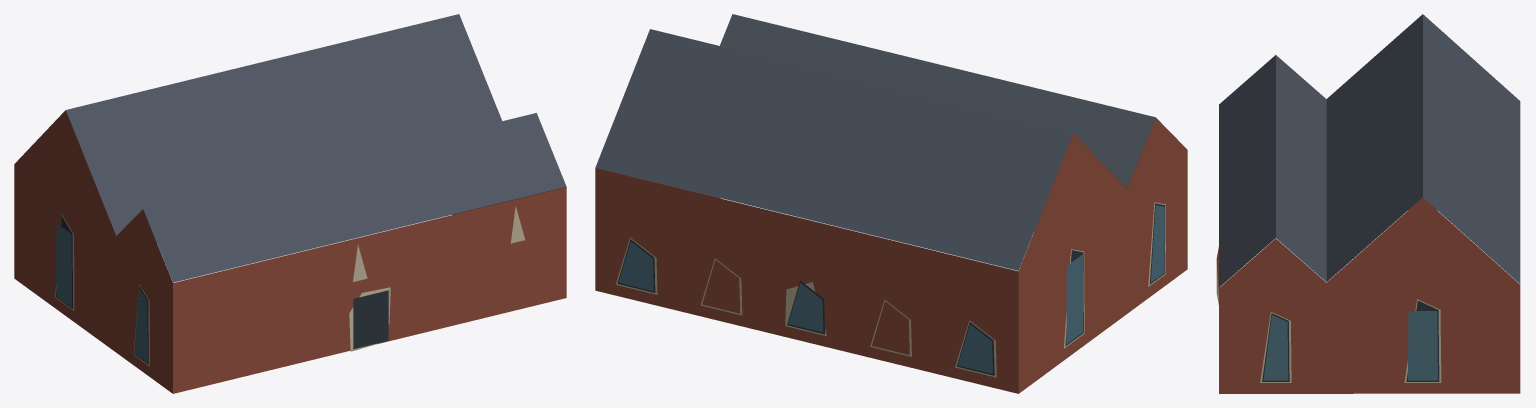
File: machinegebouw.lod2.glb
3 views of the same model, side by side, from view 1: azimuth 30°, elevation 25°; view 2: azimuth 150°, elevation 25°; view 3: azimuth 270°, elevation 25° (orthographic). The views are drawn at different scales.
Parts seen in each view (by area): view 1: lod2; view 2: lod2; view 3: lod2.
Boxes of the visible parts, left/top/right/bottom form: lod2: left=14, top=14, right=566, bottom=393; lod2: left=595, top=14, right=1187, bottom=393; lod2: left=1216, top=14, right=1520, bottom=393.
Bounding box in the file's own units: 25.88 × 12.83 × 18.07.
